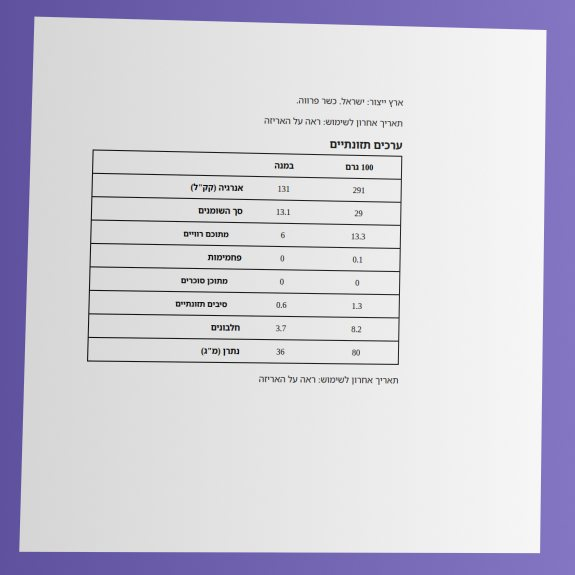carbs: (351, 252, 364, 267)
energy: (351, 183, 367, 197)
fat: (353, 206, 364, 220)
protein: (350, 322, 363, 336)
